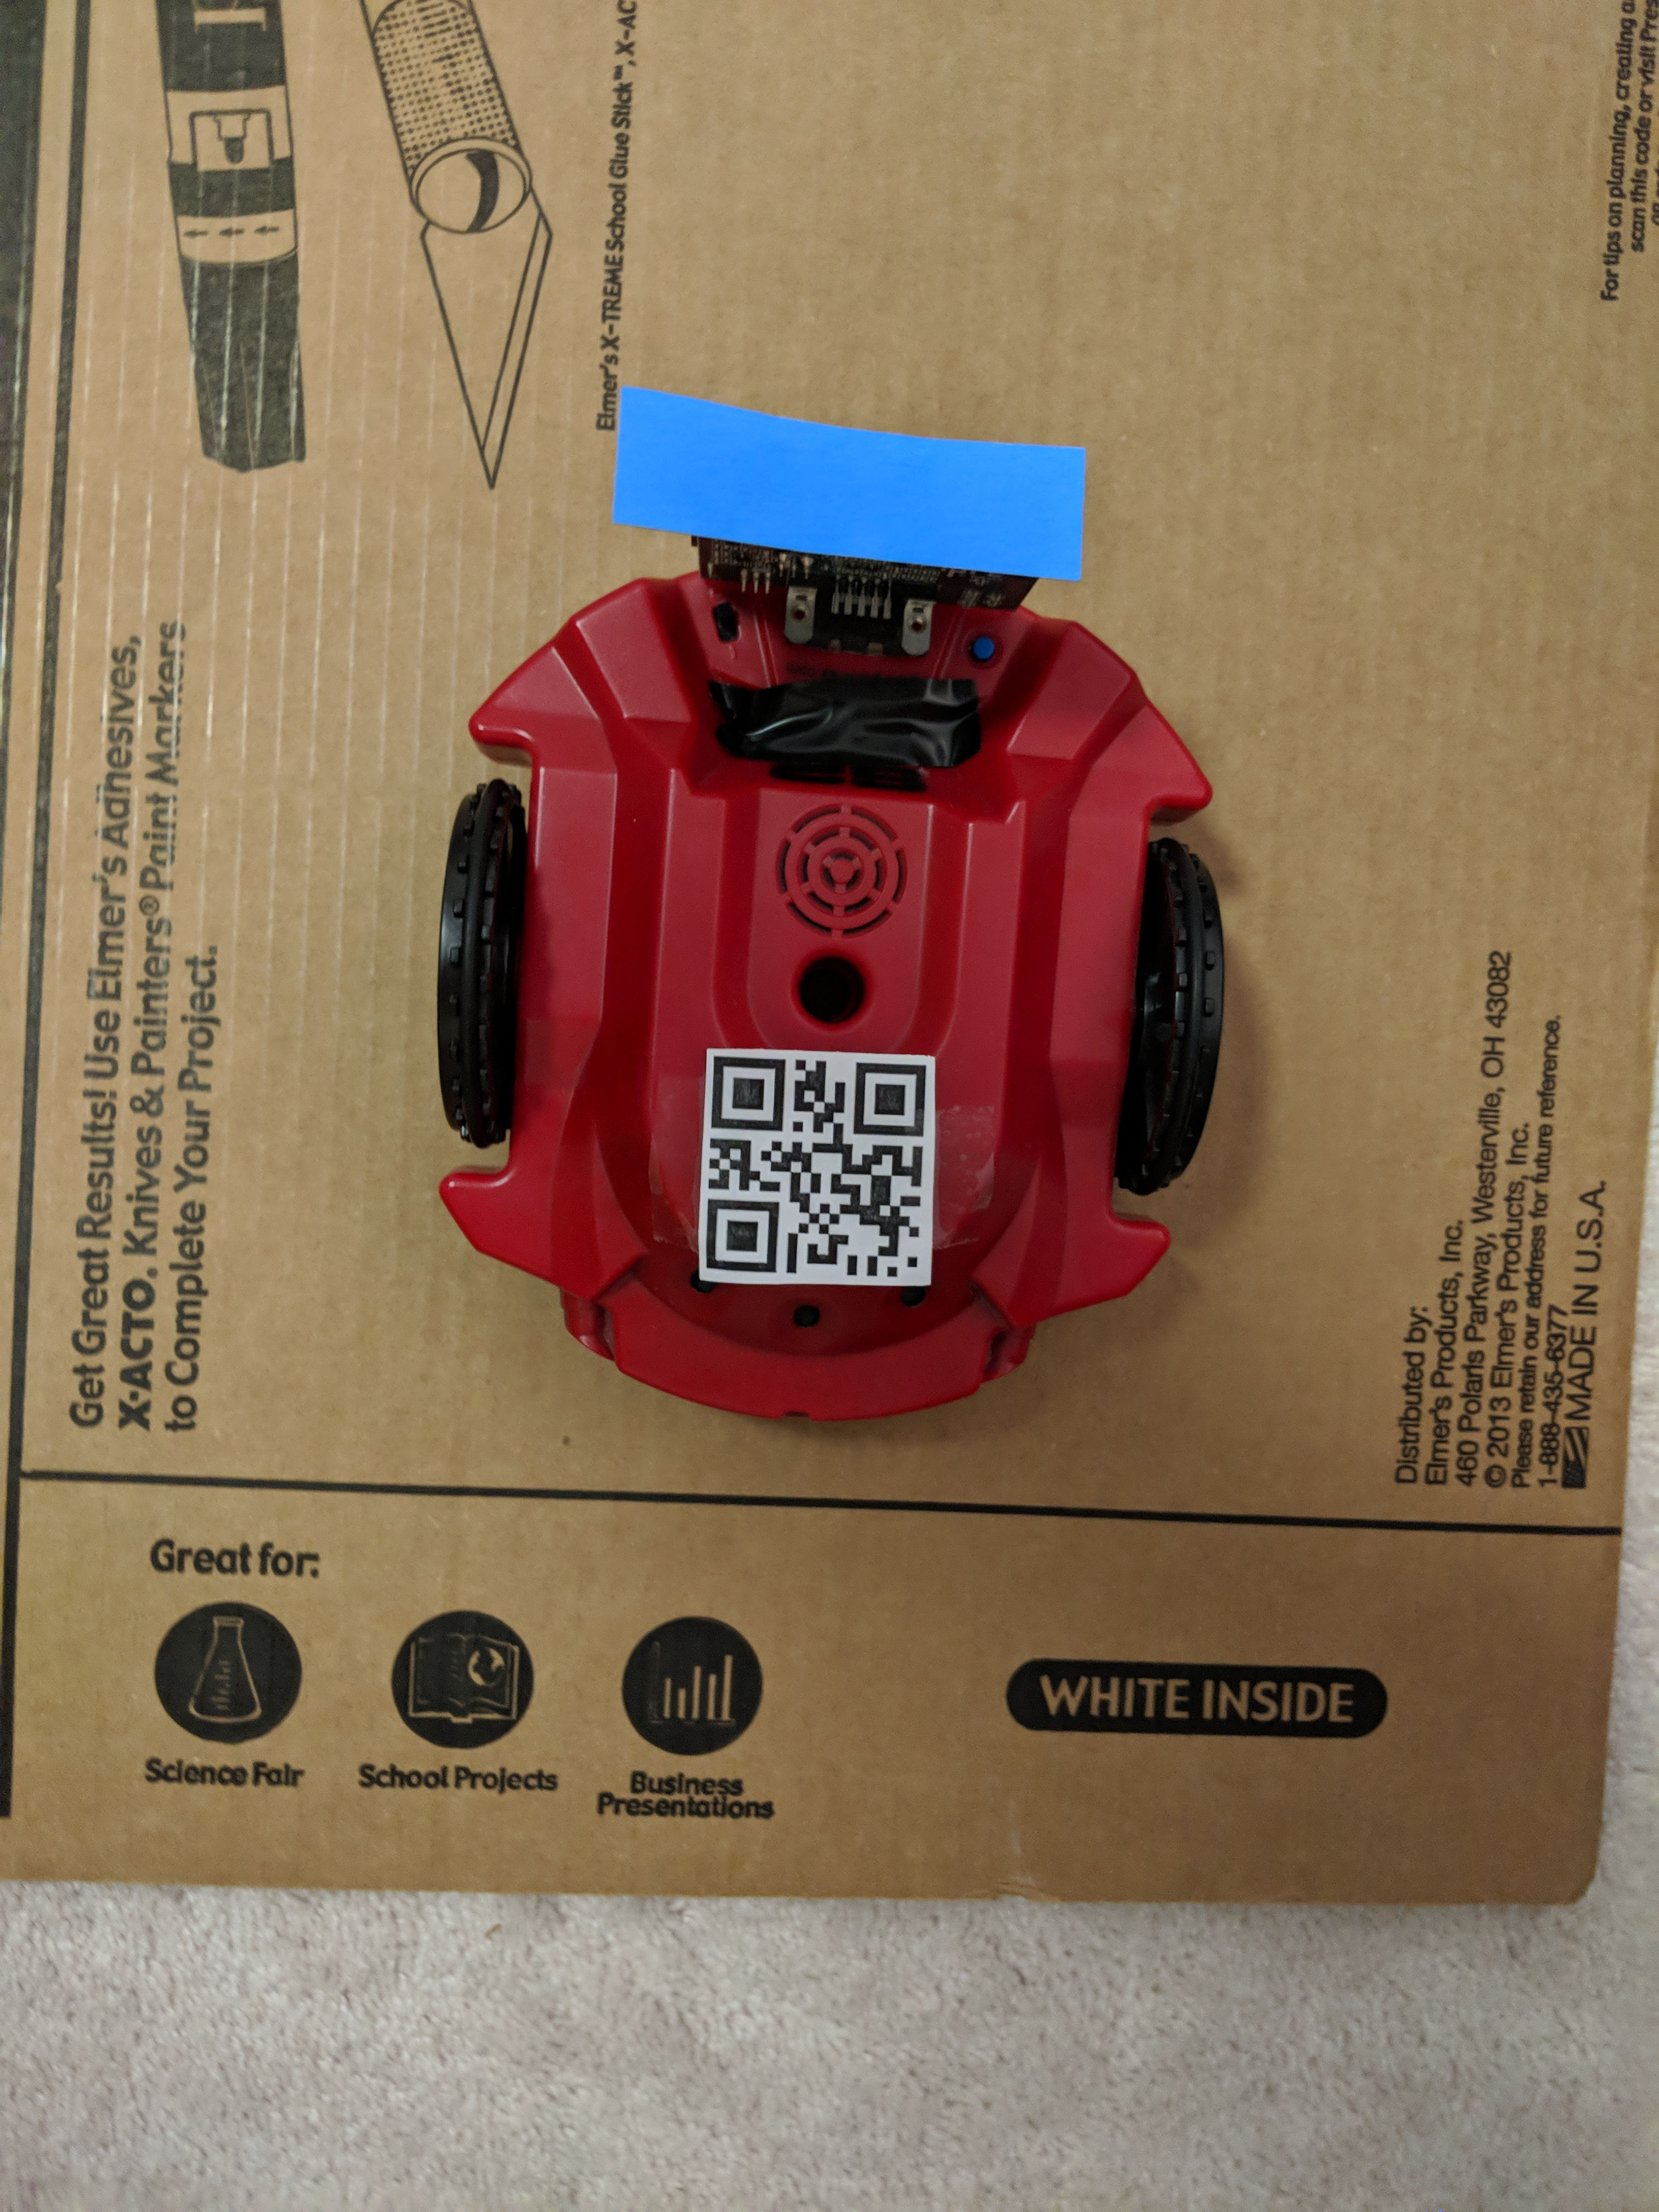chassis: (411, 374, 1222, 1458)
qr: (690, 1019, 962, 1331)
